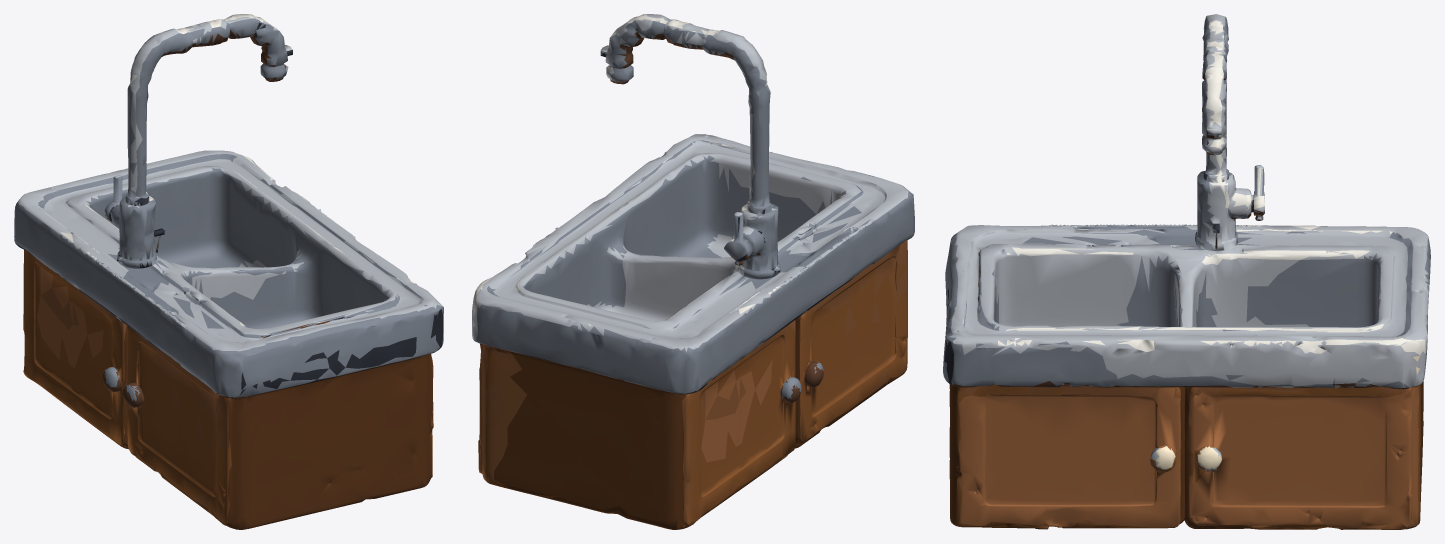
Rendered from SM_sink_cabinet.fbx.
3 views of the same model, side by side, from view 1: azimuth 30°, elevation 25°; view 2: azimuth 150°, elevation 25°; view 3: azimuth 270°, elevation 25° (orthographic). The views are drawn at different scales.
Parts seen in each view (by area): view 1: SM_sink_cabinet; view 2: SM_sink_cabinet; view 3: SM_sink_cabinet.
Part boxes in pixels (x1=…): SM_sink_cabinet: x1=14, y1=14, x2=443, y2=529; SM_sink_cabinet: x1=472, y1=14, x2=914, y2=529; SM_sink_cabinet: x1=943, y1=14, x2=1430, y2=529.
Size of the model in its own units: 50.33 by 85 by 86.09.
Materials: 1 (1 with a texture image).
